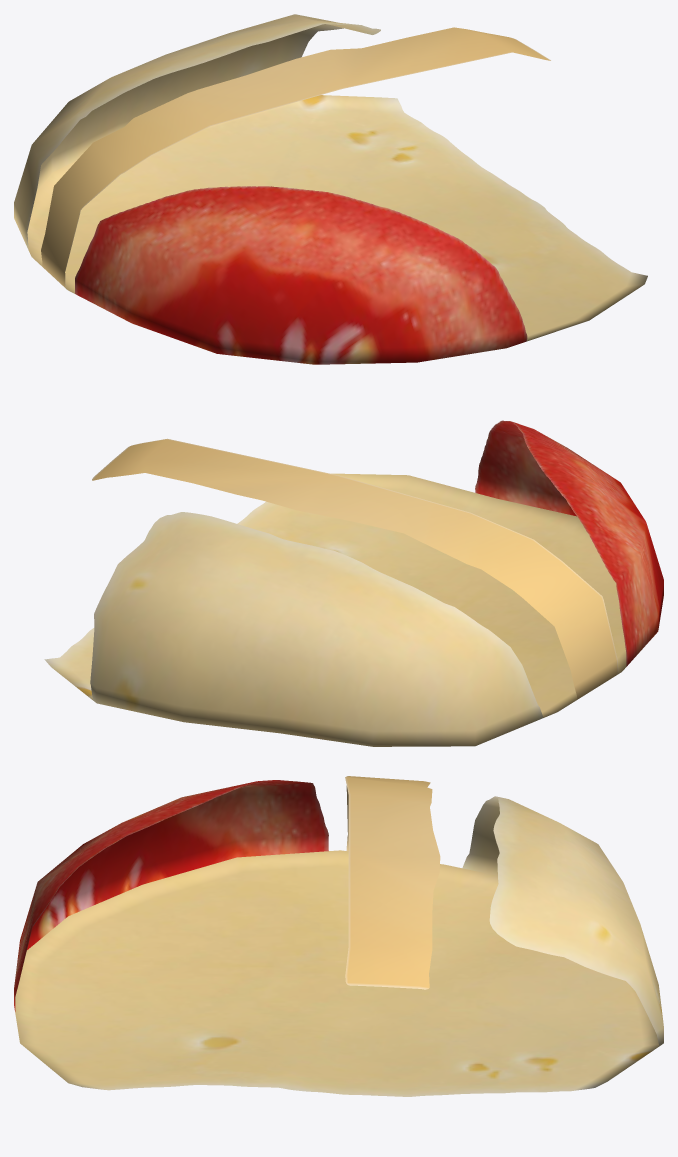
Rendered from burger_bun_02.FBX.
3 renders of one model, top to bottom at view 1: azimuth 30°, elevation 25°; view 2: azimuth 150°, elevation 25°; view 3: azimuth 270°, elevation 25°, orthographic. The views are drawn at different scales.
Parts seen in each view (by area): view 1: burger_bun_02_LOD00; view 2: burger_bun_02_LOD00; view 3: burger_bun_02_LOD00.
Part boxes in pixels (x1,y1,x2,y2): burger_bun_02_LOD00: (14,14,647,364); burger_bun_02_LOD00: (44,420,663,746); burger_bun_02_LOD00: (14,776,663,1096).
Size of what is drawn, in the model's own units: 5.47 by 1.38 by 5.27.
